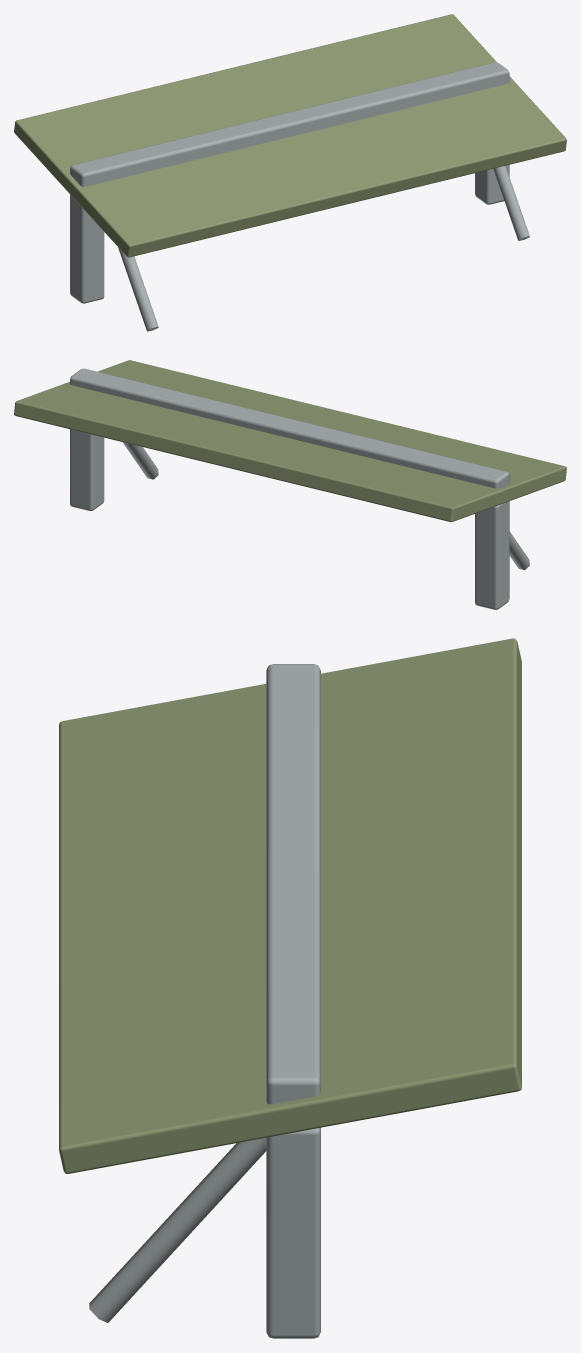
Rendered from survival-greenhouse-and-irrigation-greenhouse-ridge-ve-b7bddbe7__21304.glb.
3 views of the same model, one above another, from view 1: azimuth 30°, elevation 25°; view 2: azimuth 150°, elevation 25°; view 3: azimuth 270°, elevation 25° (orthographic). The views are drawn at different scales.
Visible parts, largest first — view 1: greenhouse-ridge-vent; view 2: greenhouse-ridge-vent; view 3: greenhouse-ridge-vent.
Boxes of the visible parts, left/top/right/bottom form: greenhouse-ridge-vent: left=14, top=14, right=566, bottom=331; greenhouse-ridge-vent: left=14, top=360, right=566, bottom=609; greenhouse-ridge-vent: left=59, top=638, right=521, bottom=1338.
Size of the model in its own units: 1.3 by 0.4078 by 0.594.
